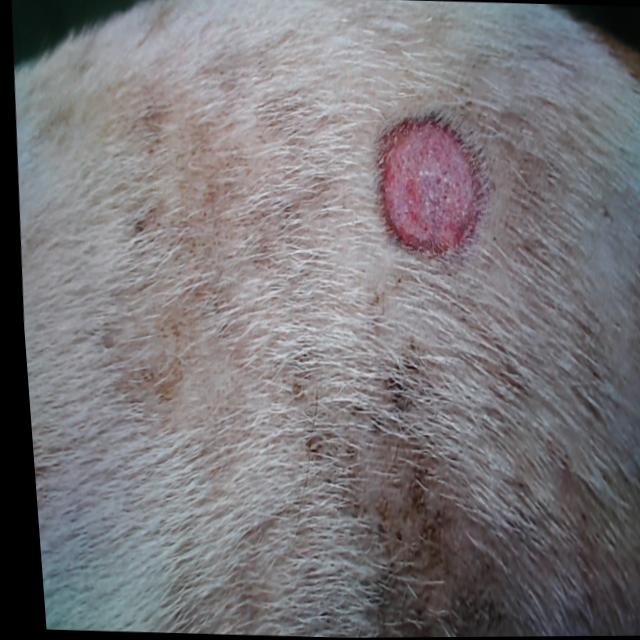ringworm: (350, 39, 505, 310)
